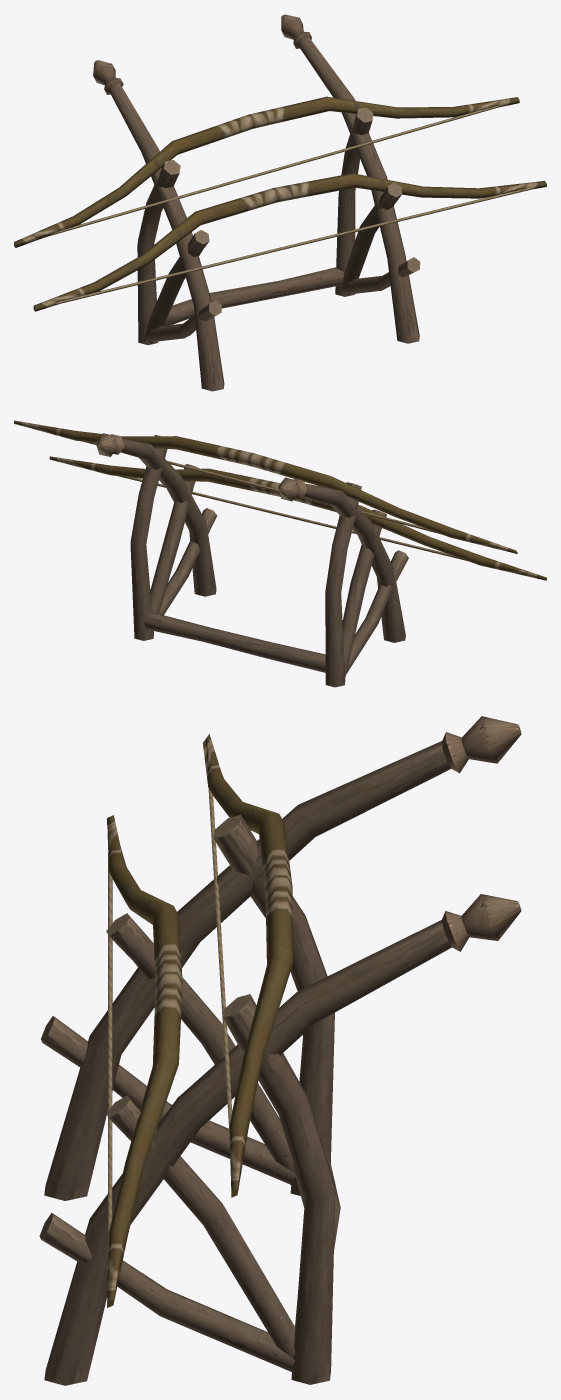
The model's file is Homeworld_Exterior_Xm_Decoration_Prop_Gongjianjia_01_Lod0.fbx.
The picture shows the model from 3 angles, top to bottom: view 1: azimuth 30°, elevation 25°; view 2: azimuth 150°, elevation 25°; view 3: azimuth 270°, elevation 25°; orthographic projection. The views are drawn at different scales.
Visible parts, largest first — view 1: Area_Xm_Prop_Common_Yewaijianjia_01_Lod0; view 2: Area_Xm_Prop_Common_Yewaijianjia_01_Lod0; view 3: Area_Xm_Prop_Common_Yewaijianjia_01_Lod0.
Part boxes in pixels (<box>): Area_Xm_Prop_Common_Yewaijianjia_01_Lod0: <box>14,14,546,391</box>; Area_Xm_Prop_Common_Yewaijianjia_01_Lod0: <box>14,420,546,687</box>; Area_Xm_Prop_Common_Yewaijianjia_01_Lod0: <box>39,716,521,1385</box>.
Size of the model in its own units: 1.52 by 0.6806 by 0.6328.
